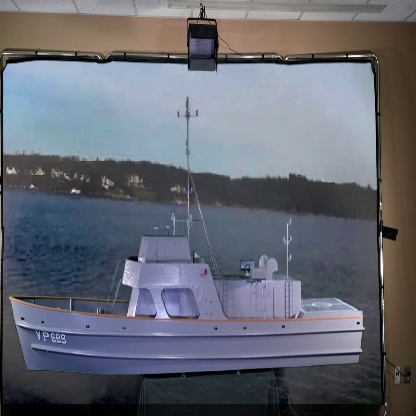YP689: (6, 80, 366, 380)
